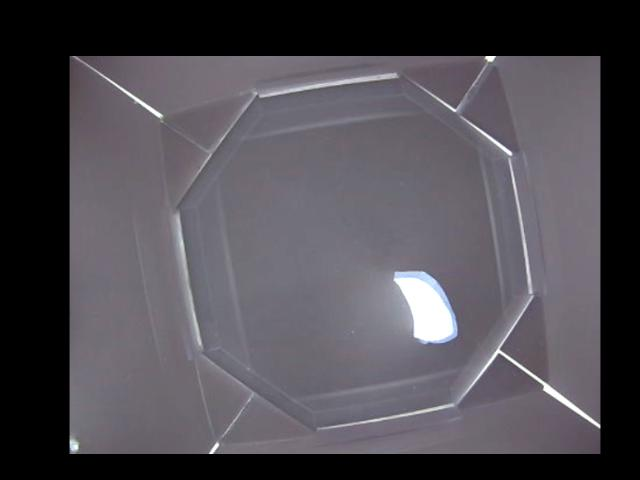China: (392, 265, 462, 343)
